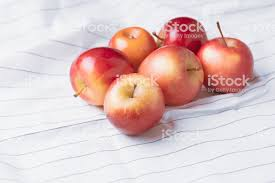apple: (102, 70, 166, 136), (63, 49, 135, 102), (141, 47, 205, 102), (199, 37, 255, 97), (110, 24, 156, 67), (159, 16, 206, 48)
